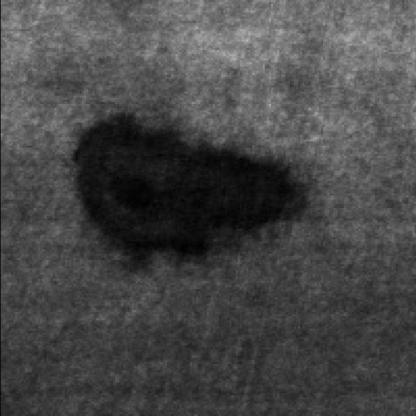patches: (75, 121, 312, 278)
